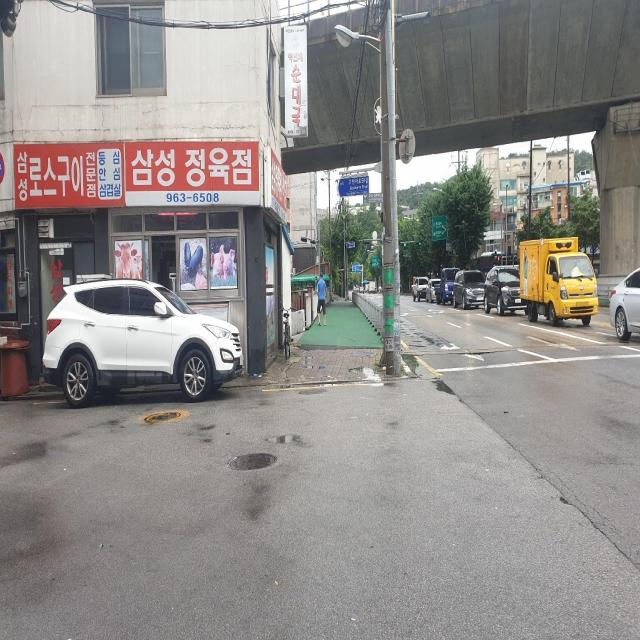car ahead at: (37, 280, 245, 398), (517, 233, 601, 327)
electric pole ahead at: (367, 0, 420, 384)
person ahead at: (313, 271, 331, 324)
